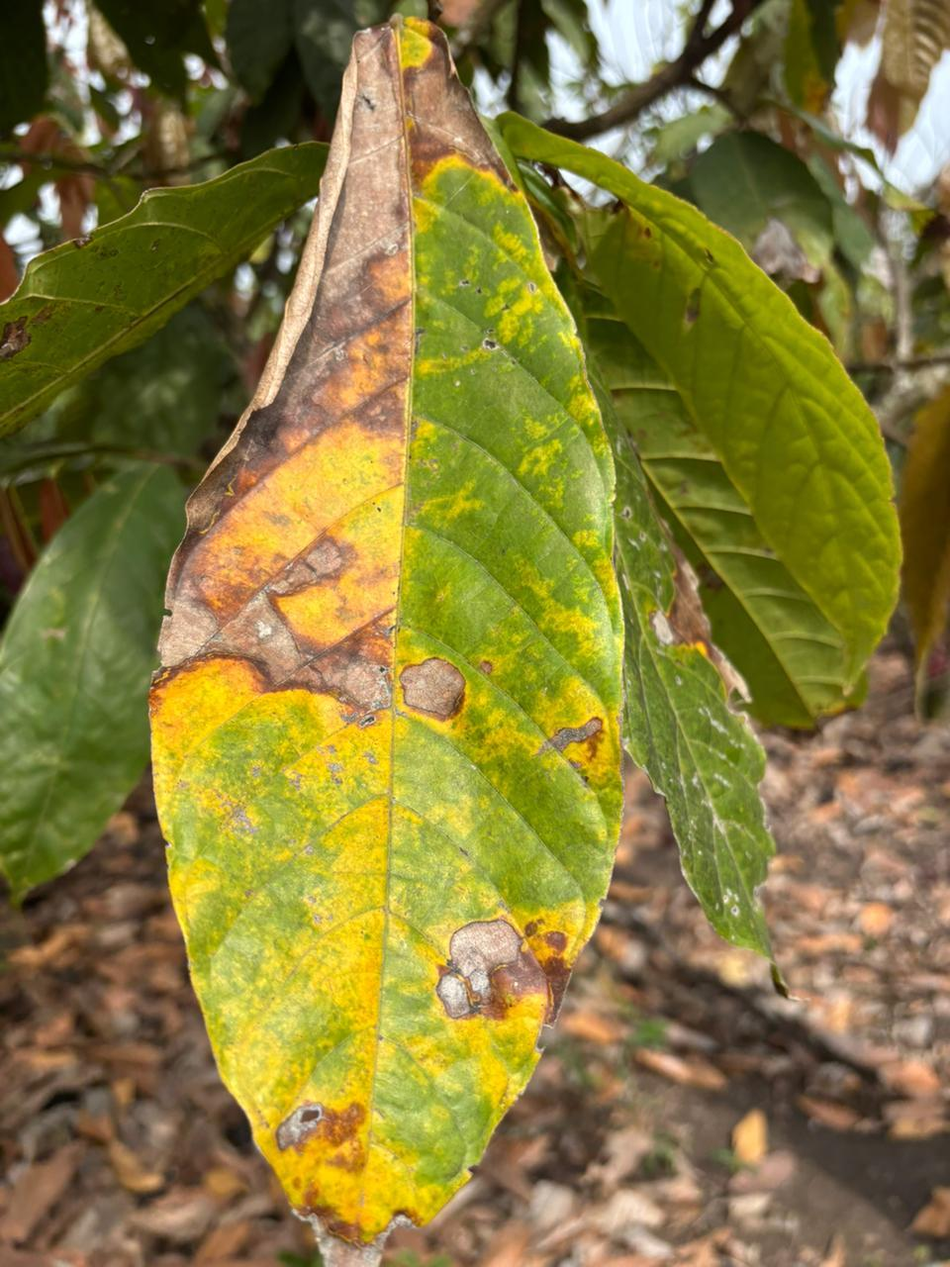deficienciia_fosforo: (150, 18, 621, 1264)
